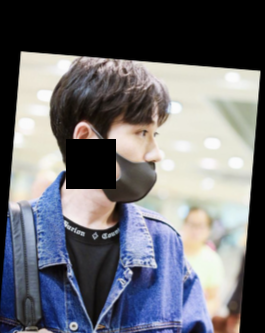mask_weared_incorrect: (95, 116, 162, 203)
